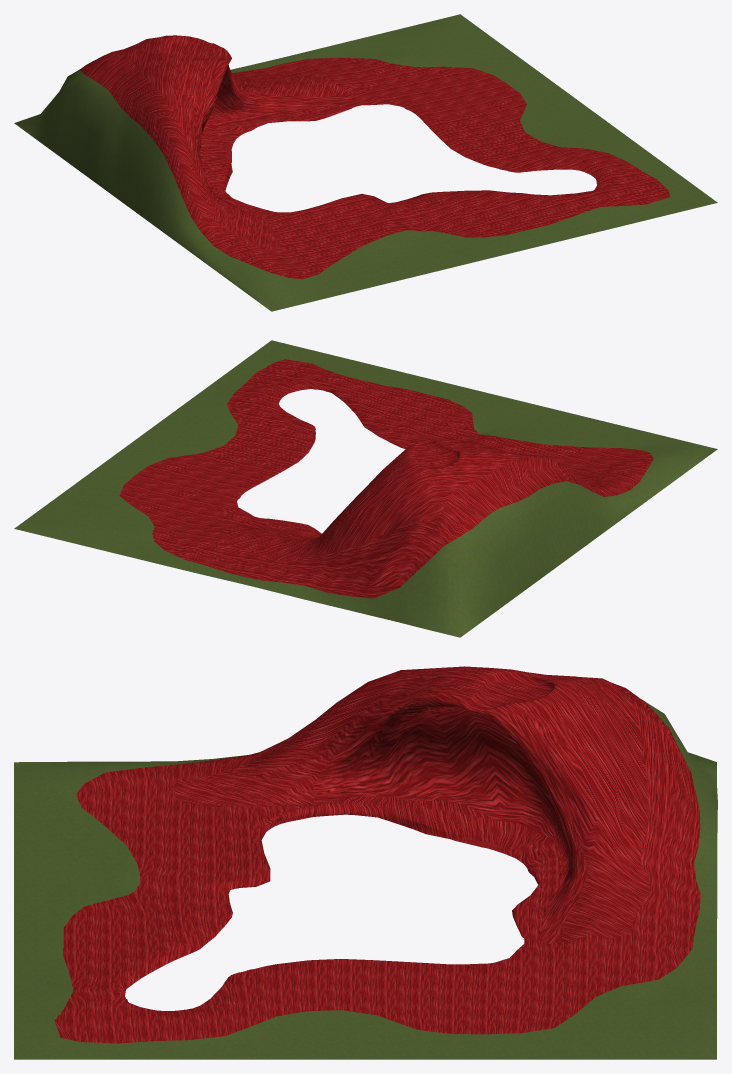
Rendered from test_mainstructure.glb.
3 renders of one model, top to bottom at view 1: azimuth 30°, elevation 25°; view 2: azimuth 150°, elevation 25°; view 3: azimuth 270°, elevation 25°, orthographic. The views are drawn at different scales.
Parts seen in each view (by area): view 1: baseGround; view 2: baseGround; view 3: baseGround.
Part boxes in pixels (x1,y1,x2,y2): baseGround: (14,14,717,311); baseGround: (14,340,717,637); baseGround: (14,666,717,1059).
Size of what is drawn, in the model's own units: 128 by 28.71 by 128.
Materials: 2 (2 with a texture image).
